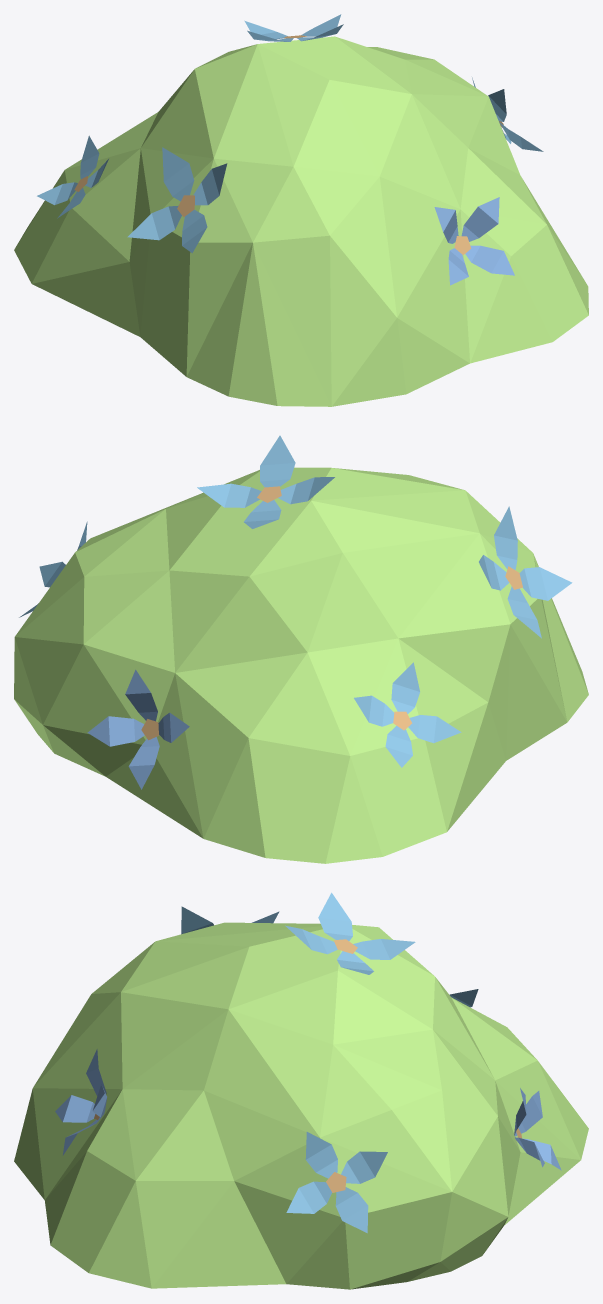
The model's file is FlowerBush_b_l_03.fbx.
The picture shows the model from 3 angles, top to bottom: view 1: azimuth 30°, elevation 25°; view 2: azimuth 150°, elevation 25°; view 3: azimuth 270°, elevation 25°; orthographic projection. The views are drawn at different scales.
Parts seen in each view (by area): view 1: FlowerBush_b_l_03; view 2: FlowerBush_b_l_03; view 3: FlowerBush_b_l_03.
Part boxes in pixels (bbox=[...]): FlowerBush_b_l_03: bbox=[14, 14, 588, 406]; FlowerBush_b_l_03: bbox=[14, 435, 588, 863]; FlowerBush_b_l_03: bbox=[14, 892, 588, 1289].
Bounding box in the file's own units: 262 × 148 × 283.
